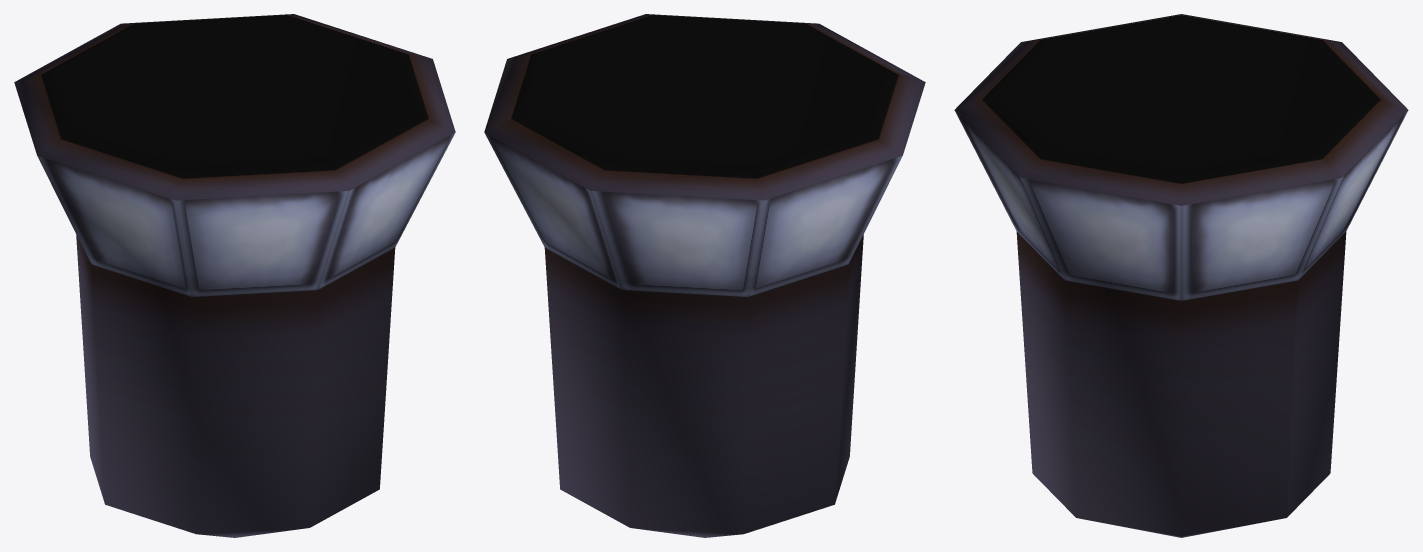
The model's file is dicso_light_single_core.DAE.
The picture shows the model from 3 angles, left to right: view 1: azimuth 30°, elevation 25°; view 2: azimuth 150°, elevation 25°; view 3: azimuth 270°, elevation 25°; orthographic projection.
Parts seen in each view (by area): view 1: Cylinder04; view 2: Cylinder04; view 3: Cylinder04.
Part boxes in pixels (bbox=[...]): Cylinder04: bbox=[14, 14, 455, 537]; Cylinder04: bbox=[484, 14, 925, 537]; Cylinder04: bbox=[954, 14, 1408, 537].
Bounding box in the file's own units: 0.5259 × 0.5678 × 0.5259.
